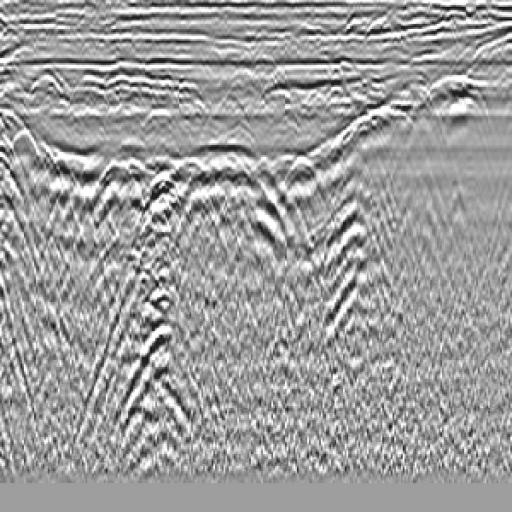metalic: (222, 129, 368, 308)
